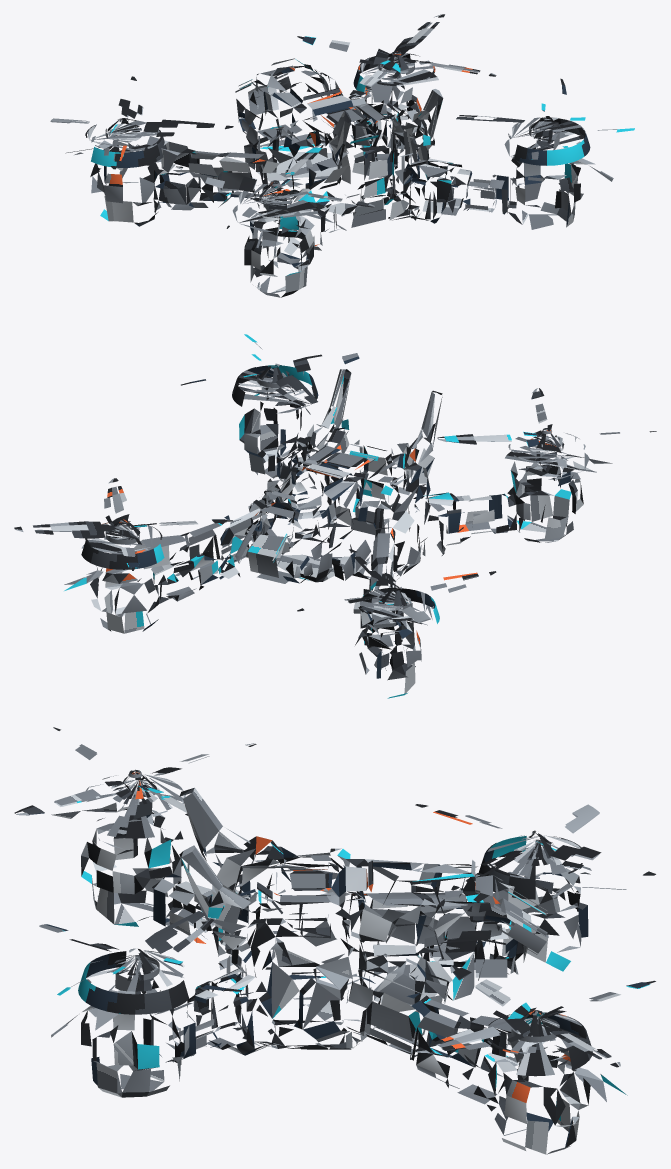
Rendered from drone.obj.
The picture shows the model from 3 angles, top to bottom: view 1: azimuth 30°, elevation 25°; view 2: azimuth 150°, elevation 25°; view 3: azimuth 270°, elevation 25°; orthographic projection. The views are drawn at different scales.
Visible parts, largest first — view 1: Drone_Body, Rotor_FR, Rotor_FL, Rotor_RL, Rotor_RR; view 2: Drone_Body, Rotor_FR, Rotor_RL, Rotor_FL, Rotor_RR; view 3: Drone_Body, Rotor_FR, Rotor_FL, Rotor_RR, Rotor_RL.
Part boxes in pixels (left/top/right/bottom): Drone_Body: left=65, top=53, right=613, bottom=297; Rotor_FR: left=297, top=14, right=496, bottom=98; Rotor_FL: left=50, top=76, right=233, bottom=169; Rotor_RL: left=175, top=145, right=374, bottom=228; Rotor_RR: left=456, top=78, right=634, bottom=159; Drone_Body: left=64, top=364, right=612, bottom=698; Rotor_FR: left=14, top=478, right=233, bottom=570; Rotor_RL: left=437, top=388, right=656, bottom=480; Rotor_FL: left=297, top=549, right=496, bottom=622; Rotor_RR: left=181, top=334, right=359, bottom=405; Drone_Body: left=51, top=774, right=627, bottom=1154; Rotor_FR: left=414, top=965, right=655, bottom=1067; Rotor_FL: left=415, top=804, right=655, bottom=890; Rotor_RR: left=39, top=911, right=241, bottom=995; Rotor_RL: left=14, top=727, right=256, bottom=815.
Bounding box in the file's own units: 1.04 × 0.4227 × 1.01.
